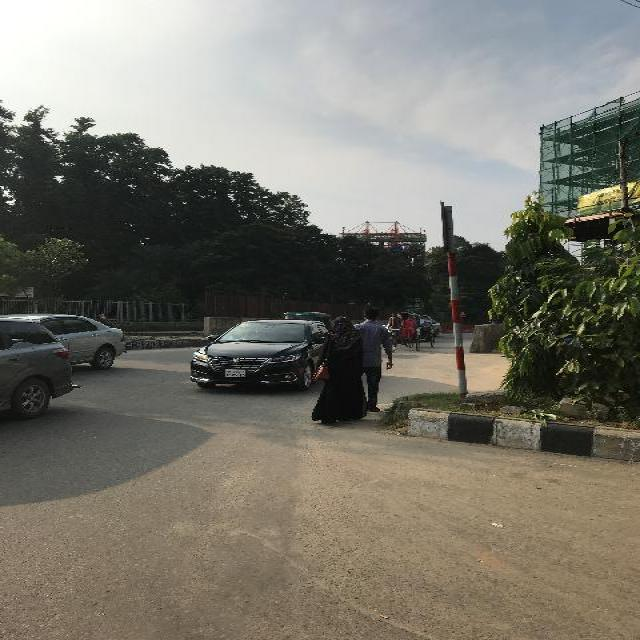vehicle: (191, 323, 327, 393), (1, 315, 74, 421), (388, 312, 422, 355), (102, 313, 140, 327), (422, 316, 436, 349)
